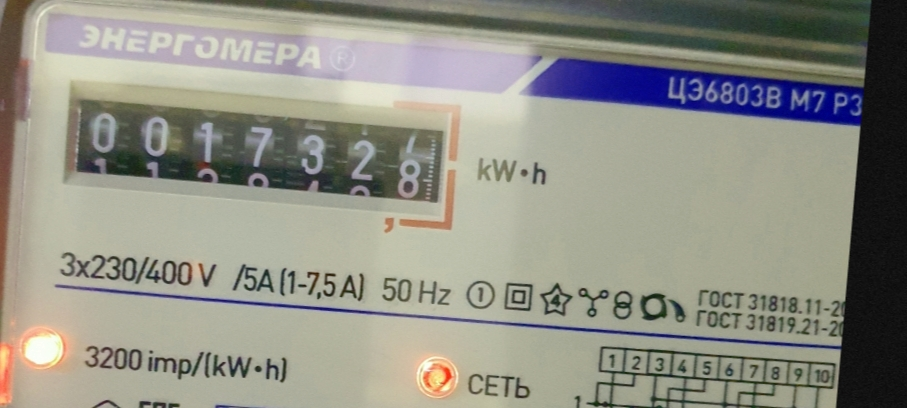0: (87, 110, 122, 157), (140, 112, 173, 160)
1: (194, 118, 220, 166)
2: (346, 137, 379, 184)
3: (298, 132, 328, 177)
7: (244, 124, 275, 172)
8: (394, 157, 423, 201)
screen: (51, 73, 471, 237)
